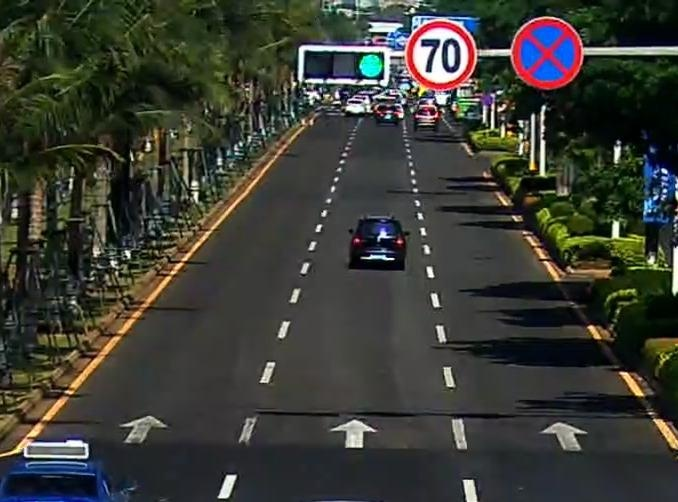green: (354, 51, 384, 81)
